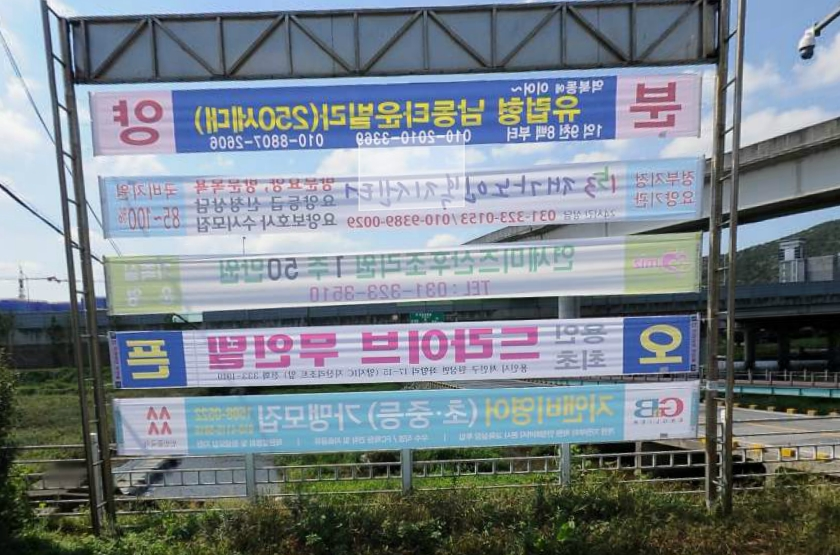banner: (71, 371, 741, 460), (70, 307, 738, 393), (44, 156, 725, 237), (66, 239, 734, 315), (51, 79, 744, 149)
